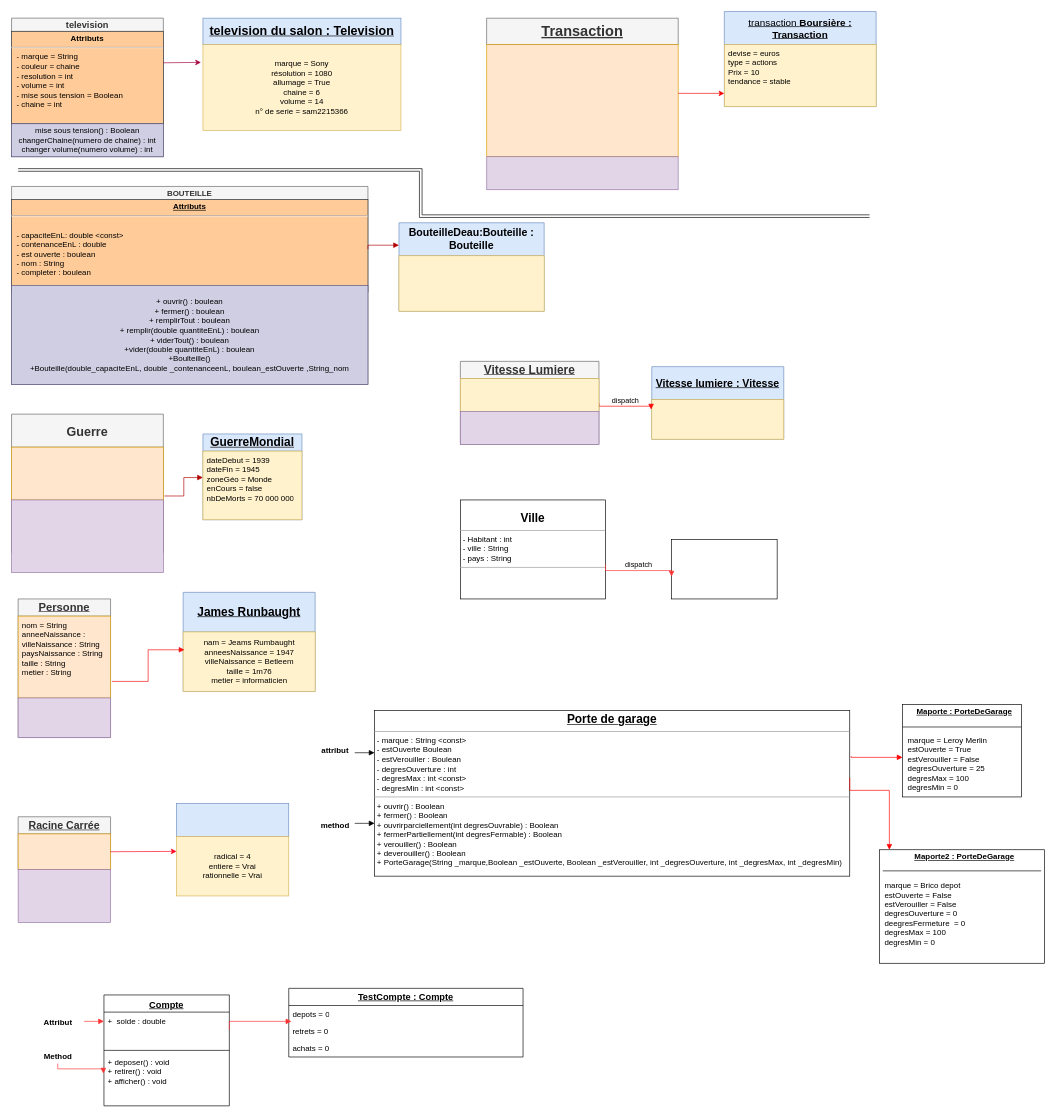
Some shapes in this 1056 by 1119 pixel diagram are drawn without their labels. Here are the shapes that lost their labels. From the top down, the centre of each, then its label:
(582,100): devise : String type : tring prix : double tendance : String
(582,173): acheter (double, prix) : double vendre (double, prix) : double
(471,283): capaciteEnL = 1.5 contenanceEnL = 1.25 estOuverte = false non = "Christaline"
(529,395): distanceKm : Double TempsS : Double
(529,428): calcul vitesse() : Double
(717,419): Distance = 300 000 Temps : 1 seconde
(87,473): date : int zoneGéo : String enCours : Boolean dateFin : int
(87,536): bombardement = () terrain gagner= () terrain recuperer= () auxiliair = ()
(724,569): Object:Type nomVille = Thionville nomPays = France nbHabitant = 41507
(64,717): donnerAge ()
(232,820): RacineCarre Quatre : RacineCarrée
(64,851): radical int entier : Booléen rationnelle : Boolean
(64,895): est Entier() : Boolean est Rationnel () : boolean
